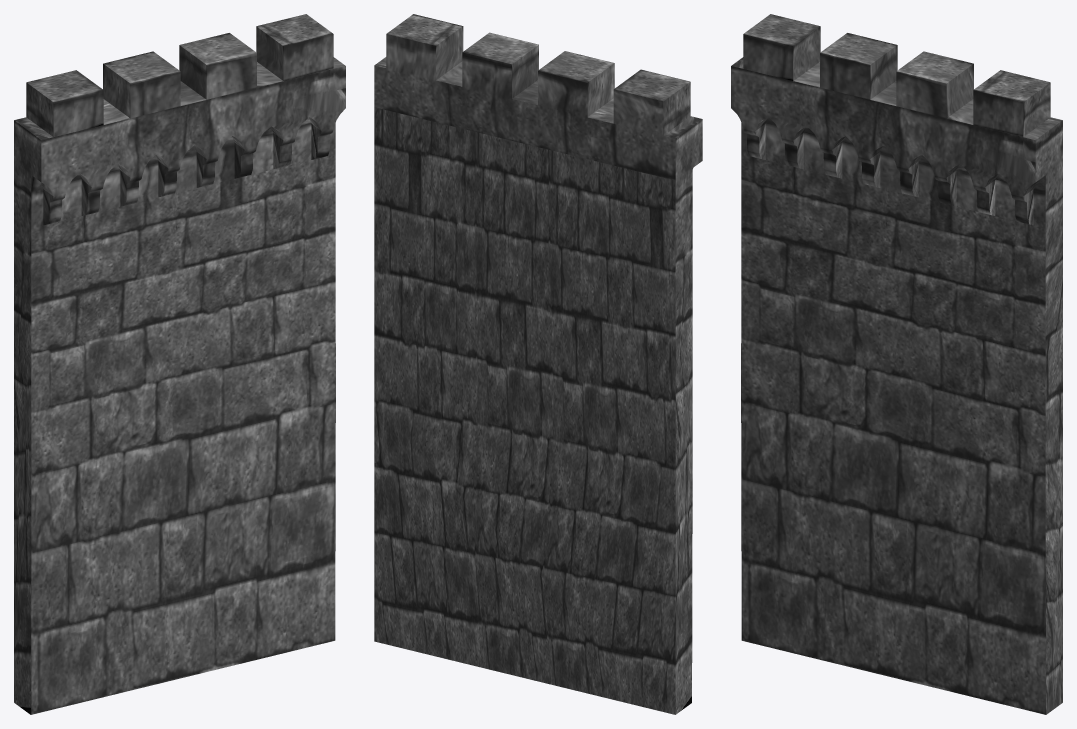
Rendered from InnerWall_v1.0.fbx.
3 views of the same model, side by side, from view 1: azimuth 30°, elevation 25°; view 2: azimuth 150°, elevation 25°; view 3: azimuth 330°, elevation 25° (orthographic).
Visible parts, largest first — view 1: Wall; view 2: Wall; view 3: Wall.
Part boxes in pixels (x1=…): Wall: x1=14, y1=14, x2=345, y2=714; Wall: x1=374, y1=14, x2=702, y2=714; Wall: x1=731, y1=14, x2=1062, y2=714.
Bounding box in the file's own units: 8.34 × 16.16 × 1.3.
